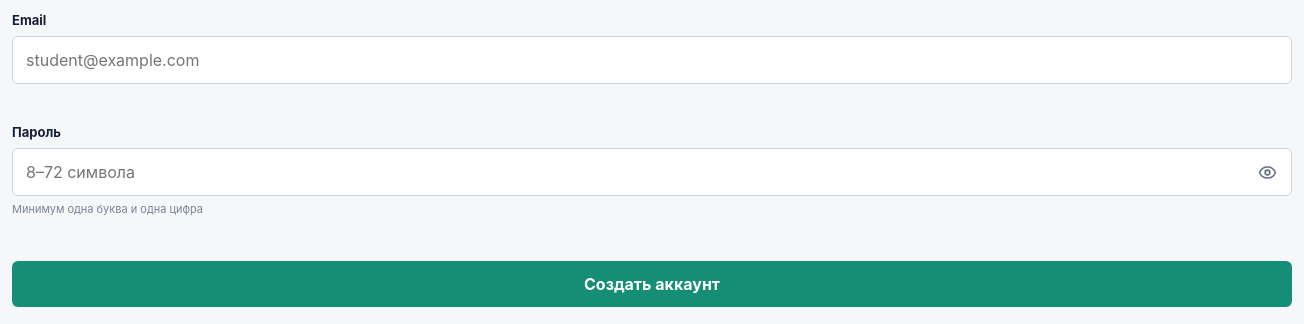
it: RegistrationForm › shows required validation errors
Click the button "Создать аккаунт": (652, 284) [12,261,1292,307]
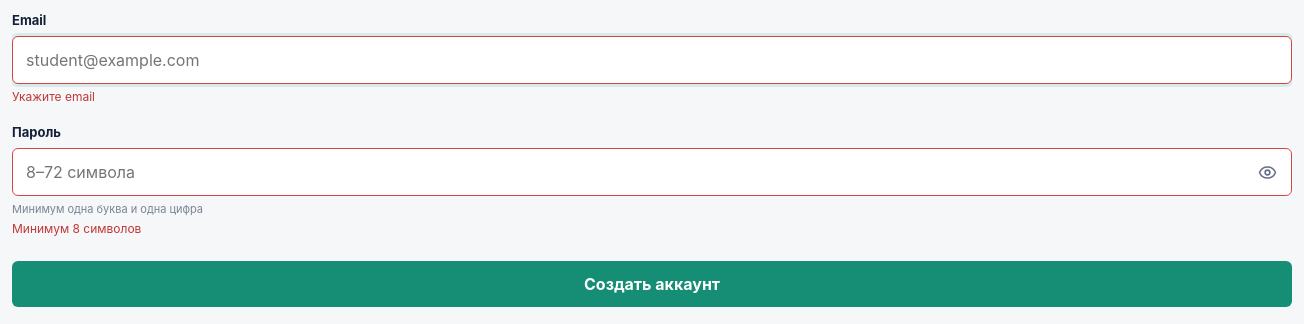
Now the text "Укажите email" is shown, box [12,89,95,104]
Now the text "Минимум 8 символов" is shown, box [12,221,141,236]
